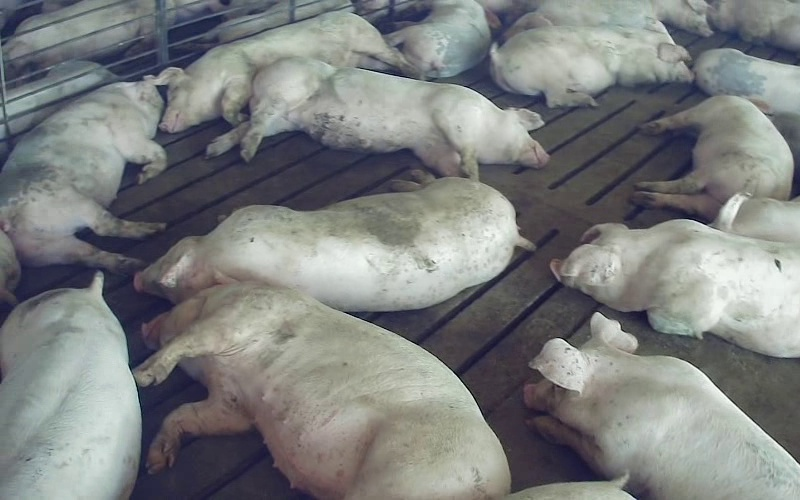pig: (134, 284, 509, 499), (524, 313, 799, 499), (207, 57, 548, 180), (550, 219, 799, 356), (0, 272, 139, 499), (0, 80, 165, 271), (154, 11, 414, 132), (632, 95, 793, 220)
